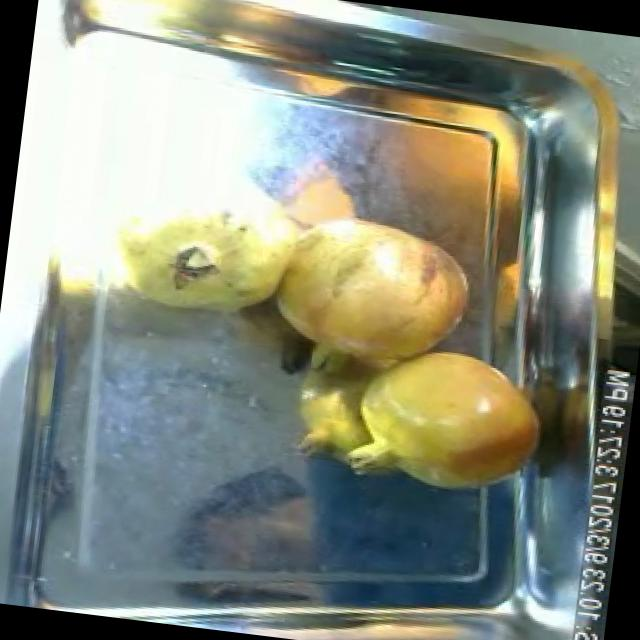fruit: (247, 196, 494, 392), (329, 330, 558, 512), (93, 178, 309, 338)
